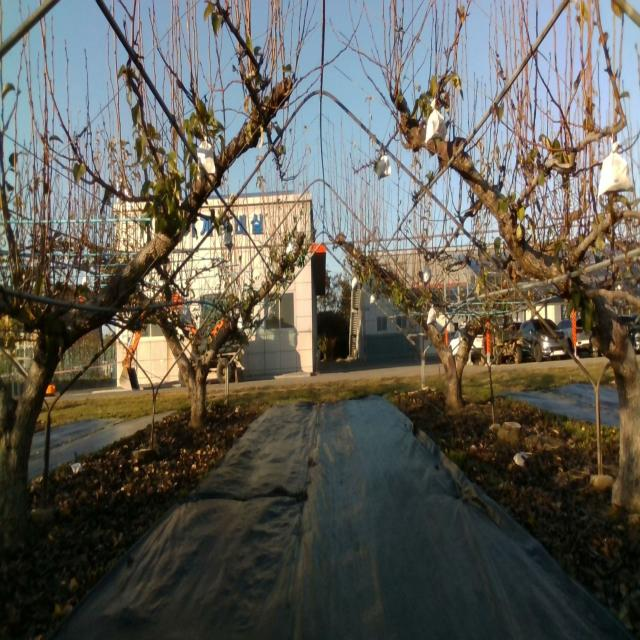pearbags: (597, 141, 633, 197), (425, 100, 449, 145), (196, 135, 216, 180), (378, 154, 391, 178), (181, 304, 192, 325), (426, 304, 436, 324)
